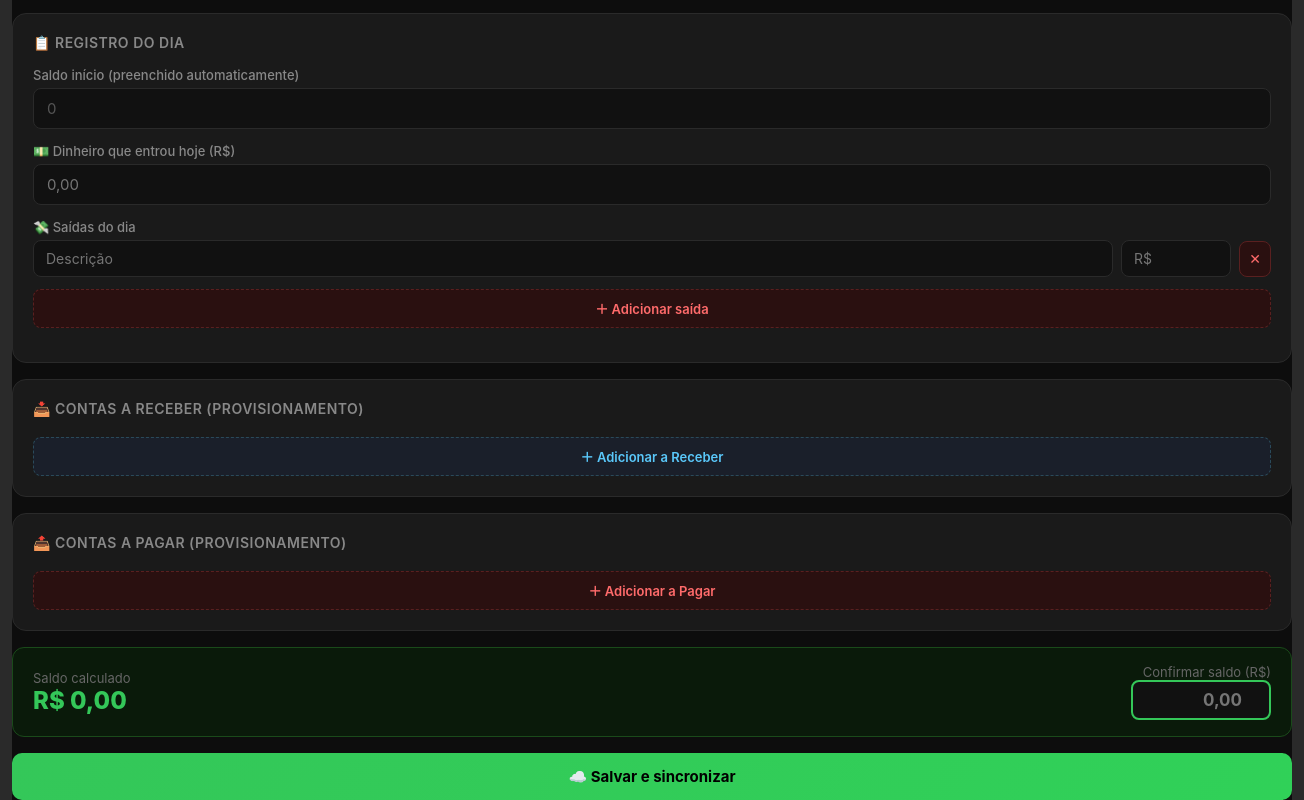
botão fica desabilitado durante salvamento
(page scrolled)
Click the button "☁️ Salvar e sincronizar".
click(652, 776)  # box 12,753 -> 1292,799
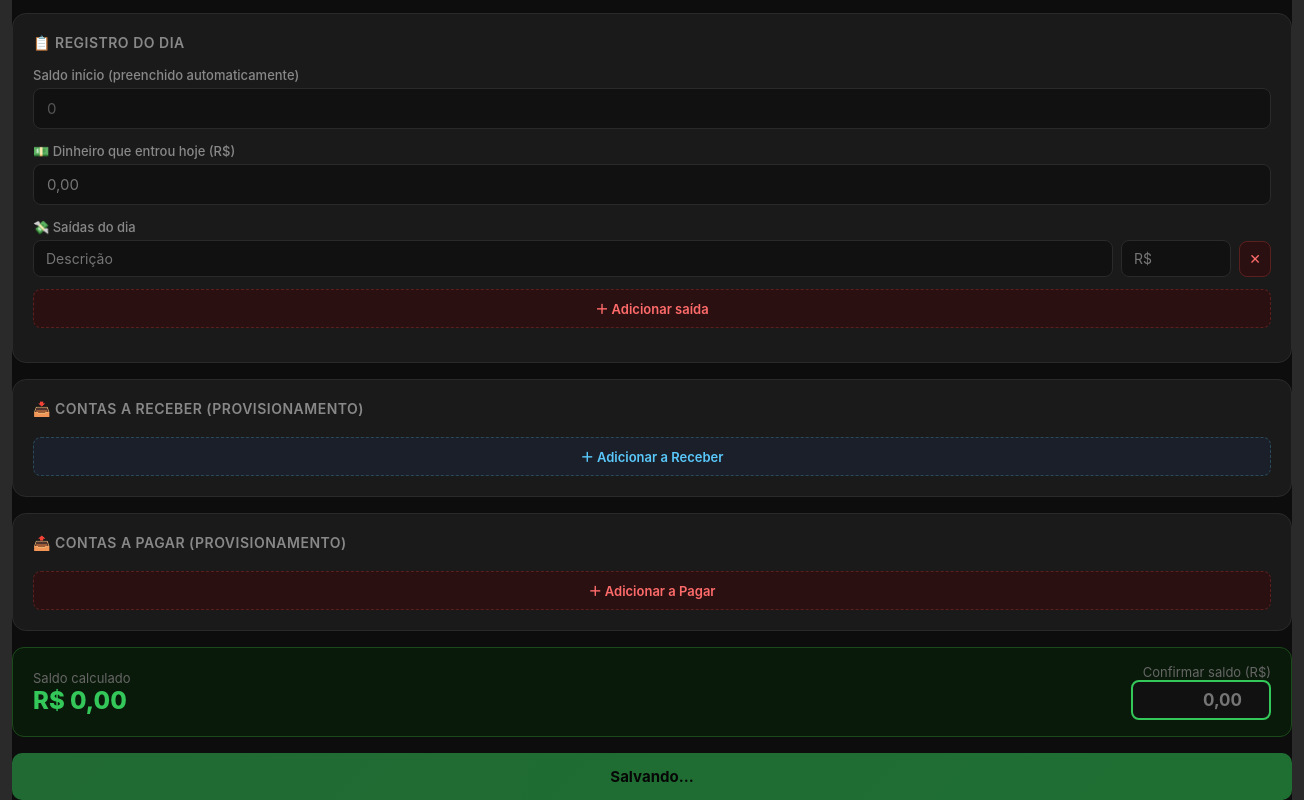
Expected: the button "Salvando..." is disabled, 12,753 -> 1292,799
